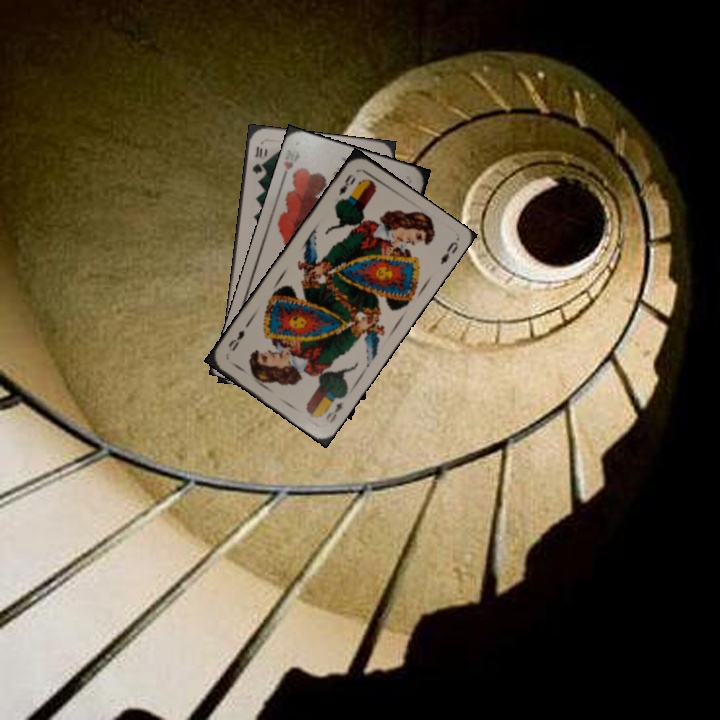EO: (334, 170, 359, 204), (321, 398, 347, 426)
G10: (248, 142, 267, 177)
H10: (278, 156, 296, 182)
